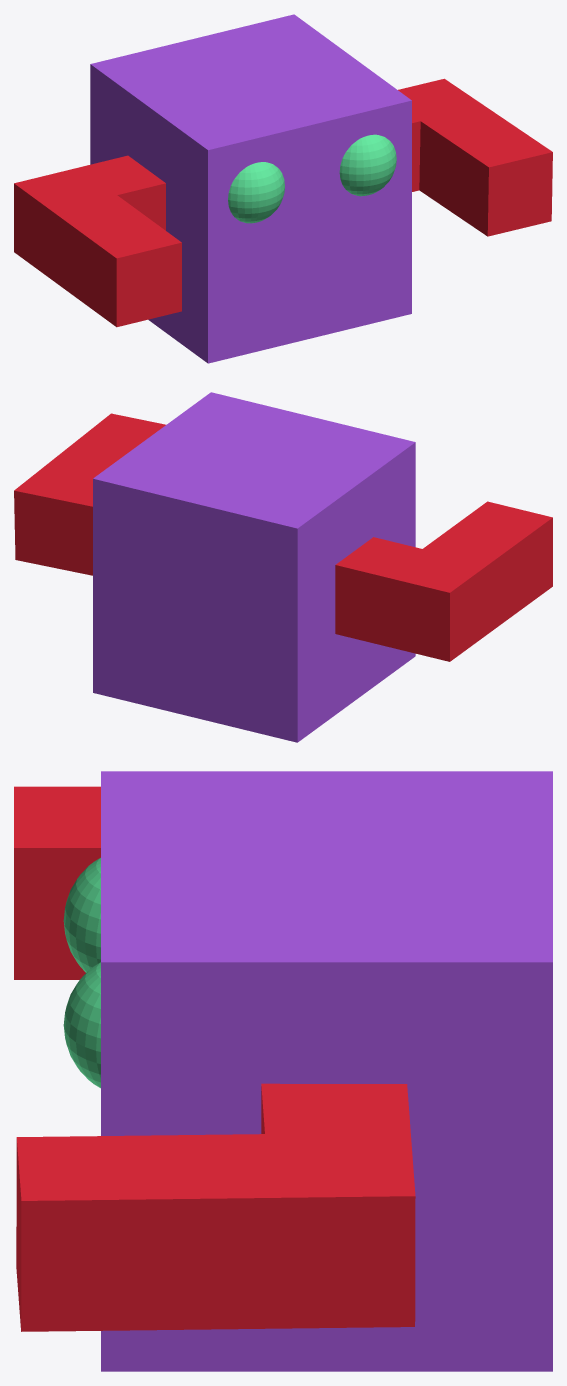
File: Cubeman.fbx
The picture shows the model from 3 angles, top to bottom: view 1: azimuth 30°, elevation 25°; view 2: azimuth 150°, elevation 25°; view 3: azimuth 270°, elevation 25°; orthographic projection. The views are drawn at different scales.
Parts seen in each view (by area): view 1: body; view 2: body; view 3: body.
Part boxes in pixels (box(x1,y1,x2,y2)): body: box(14, 14, 552, 363); body: box(14, 392, 552, 742); body: box(14, 771, 552, 1371).
Bounding box in the file's own units: 215 × 100 × 119.
